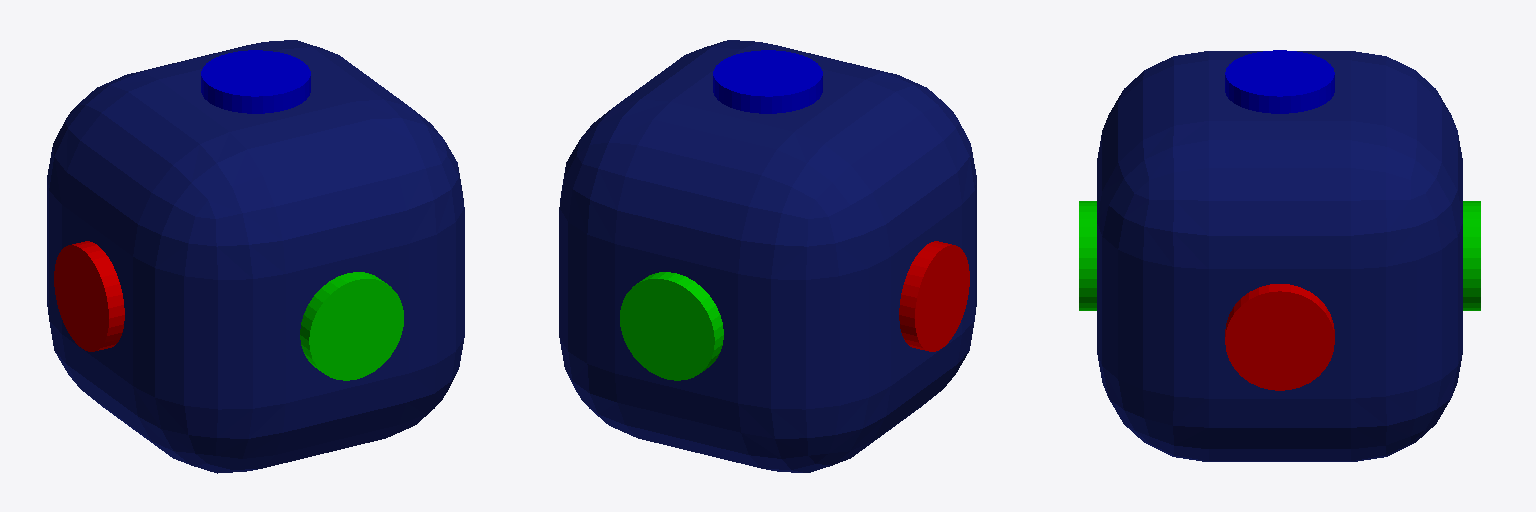
File: CubeRTYPlayer.obj
3 views of the same model, side by side, from view 1: azimuth 30°, elevation 25°; view 2: azimuth 150°, elevation 25°; view 3: azimuth 270°, elevation 25° (orthographic).
Parts seen in each view (by area): view 1: CubeRTY.Menu_Cube.001; view 2: CubeRTY.Menu_Cube.001; view 3: CubeRTY.Menu_Cube.001.
Boxes of the visible parts, x1=… form: CubeRTY.Menu_Cube.001: x1=47, y1=40, x2=464, y2=473; CubeRTY.Menu_Cube.001: x1=559, y1=40, x2=976, y2=472; CubeRTY.Menu_Cube.001: x1=1079, y1=50, x2=1480, y2=461.
Size of the model in its own units: 2.2 by 2.2 by 2.2.